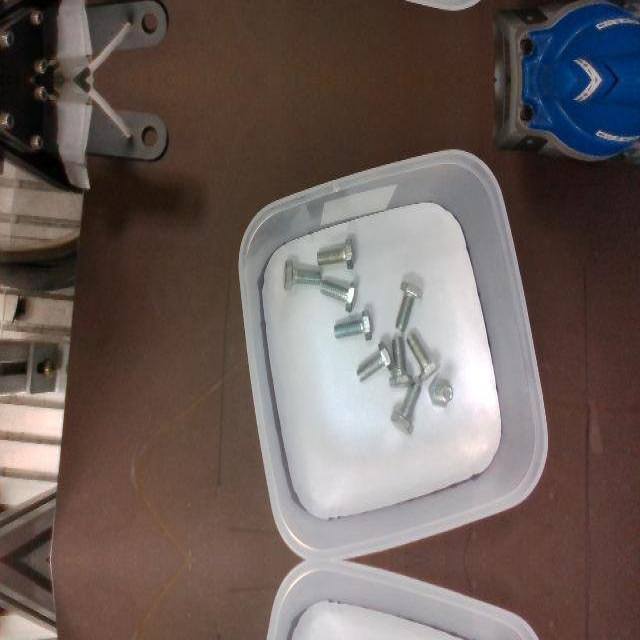screw: (406, 331, 441, 381), (390, 382, 421, 434), (356, 339, 394, 381), (395, 281, 424, 331), (320, 280, 358, 312), (333, 310, 371, 342), (388, 336, 412, 386), (283, 259, 320, 291), (317, 238, 353, 270), (428, 377, 453, 407)
